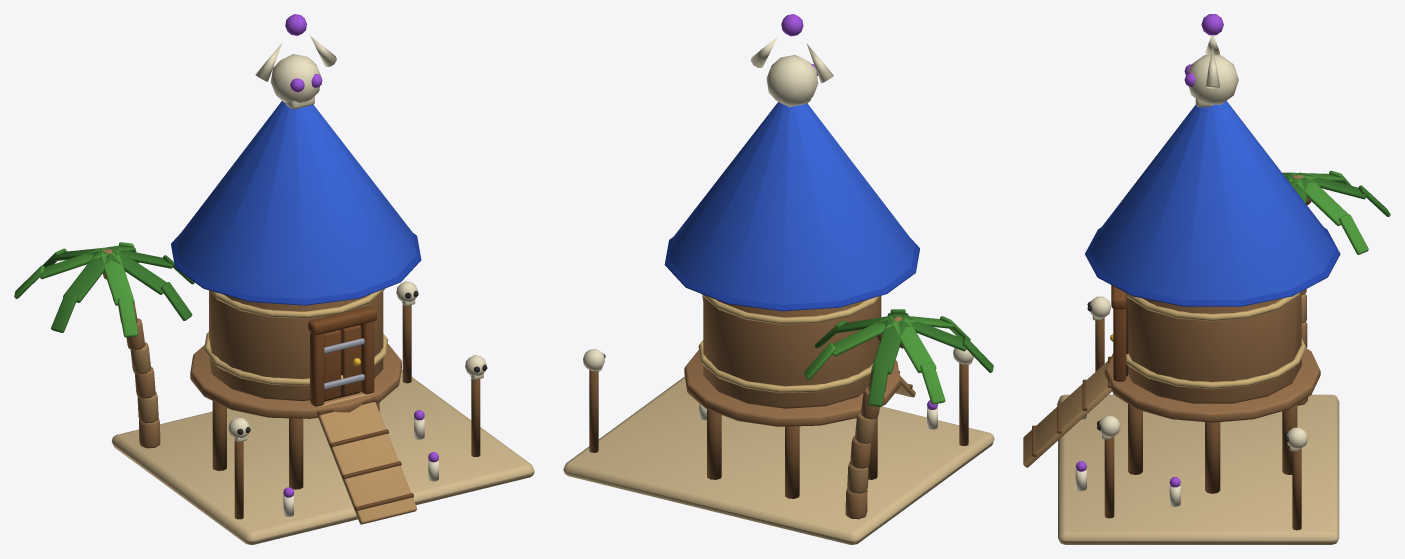
The model's file is ArcaneSanctum.glb.
The picture shows the model from 3 angles, left to right: view 1: azimuth 30°, elevation 25°; view 2: azimuth 150°, elevation 25°; view 3: azimuth 270°, elevation 25°; orthographic projection.
Visible parts, largest first — view 1: ArcaneSanctum; view 2: ArcaneSanctum; view 3: ArcaneSanctum.
Boxes of the visible parts, left/top/right/bottom form: ArcaneSanctum: left=14, top=14, right=534, bottom=544; ArcaneSanctum: left=563, top=14, right=994, bottom=544; ArcaneSanctum: left=1023, top=14, right=1390, bottom=544.
Size of the model in its own units: 4.79 by 5.32 by 3.92.
